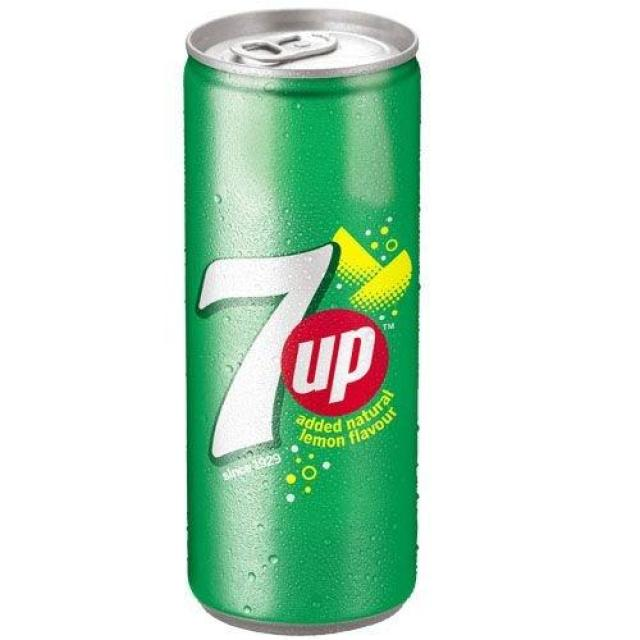can: (180, 7, 421, 640)
pop tab: (226, 26, 341, 64)
